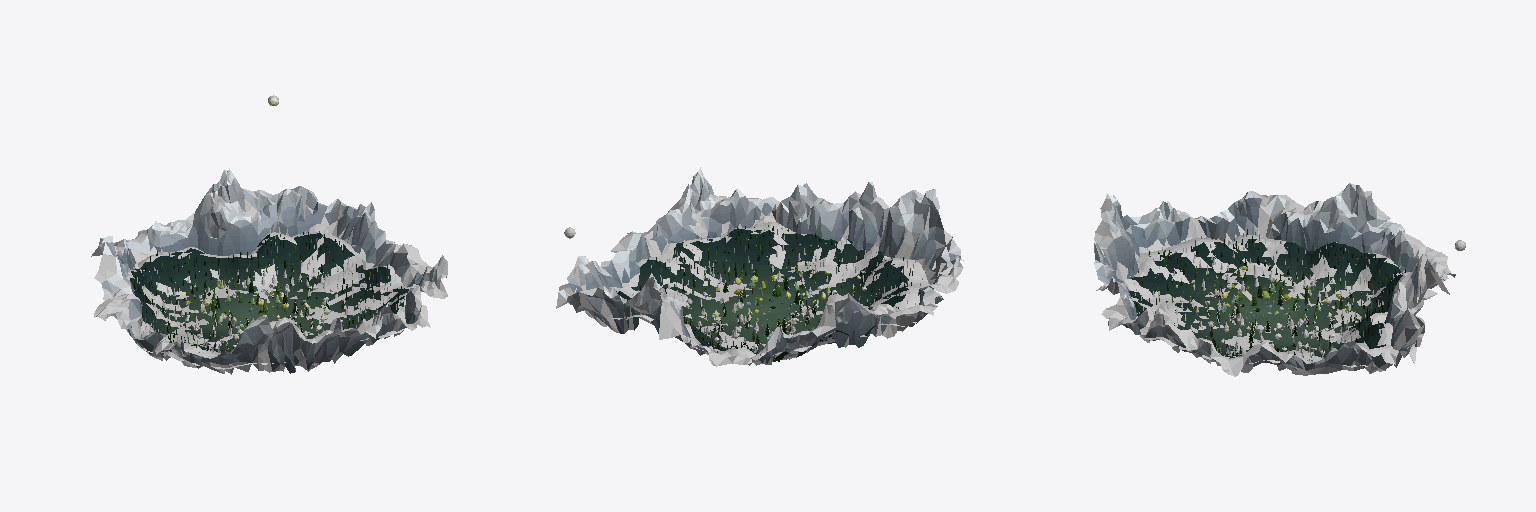
3 views of the same model, side by side, from view 1: azimuth 30°, elevation 25°; view 2: azimuth 150°, elevation 25°; view 3: azimuth 270°, elevation 25° (orthographic).
Visible parts, largest first — view 1: meadow_v4_Untitled; view 2: meadow_v4_Untitled; view 3: meadow_v4_Untitled.
Part boxes in pixels (left/top/right/bottom): meadow_v4_Untitled: left=91, top=168, right=447, bottom=374; meadow_v4_Untitled: left=556, top=167, right=963, bottom=366; meadow_v4_Untitled: left=1094, top=183, right=1455, bottom=376.
Size of the model in its own units: 168 by 66.55 by 165.
Materials: 4 (1 with a texture image).